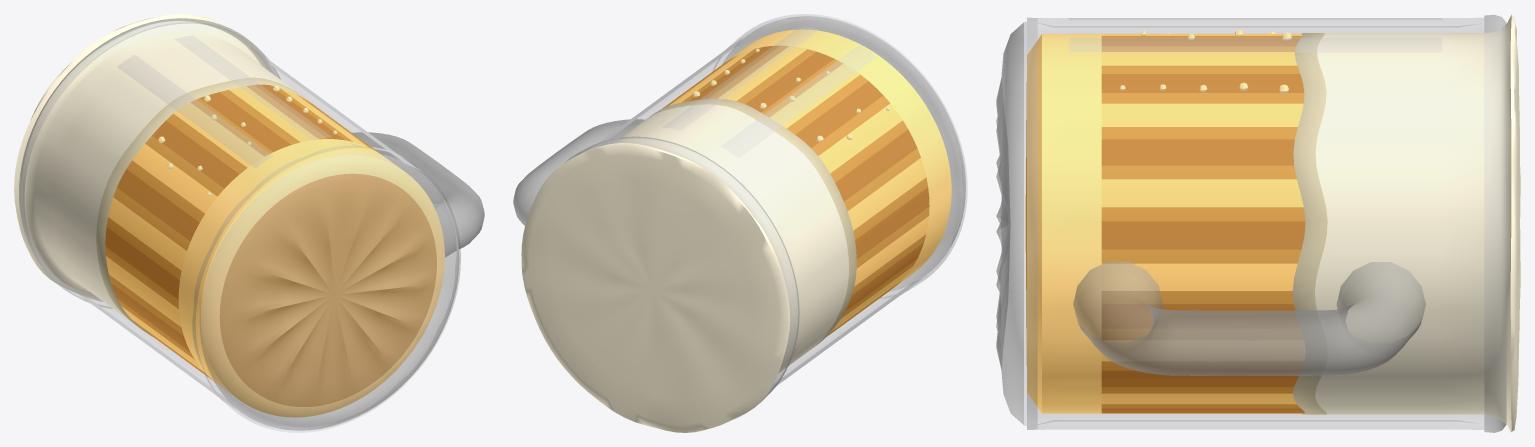
Rendered from beer_mug.glb.
3 views of the same model, side by side, from view 1: azimuth 30°, elevation 25°; view 2: azimuth 150°, elevation 25°; view 3: azimuth 270°, elevation 25° (orthographic). The views are drawn at different scales.
Parts seen in each view (by area): view 1: glass, beer, foam, handle; view 2: foam, glass, beer, handle; view 3: glass, beer, foam, handle.
Boxes of the visible parts, <box> form: glass: <box>19,18,460,432</box>; beer: <box>105,84,444,417</box>; foam: <box>14,14,320,336</box>; handle: <box>352,132,484,257</box>; foam: <box>521,98,856,432</box>; glass: <box>564,14,967,418</box>; beer: <box>662,29,951,336</box>; handle: <box>513,119,644,225</box>; glass: <box>996,14,1506,432</box>; beer: <box>1025,34,1305,413</box>; foam: <box>1292,14,1520,432</box>; handle: <box>1073,261,1425,375</box>.
Bounding box in the file's own units: 17.59 × 14 × 17.55.
